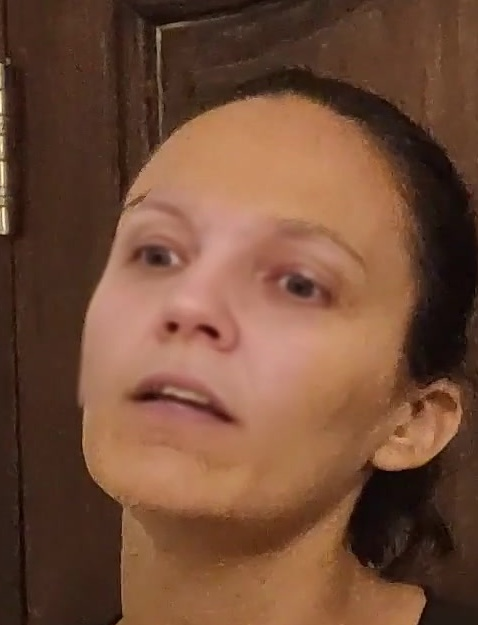eb_f: (113, 182, 381, 316)
